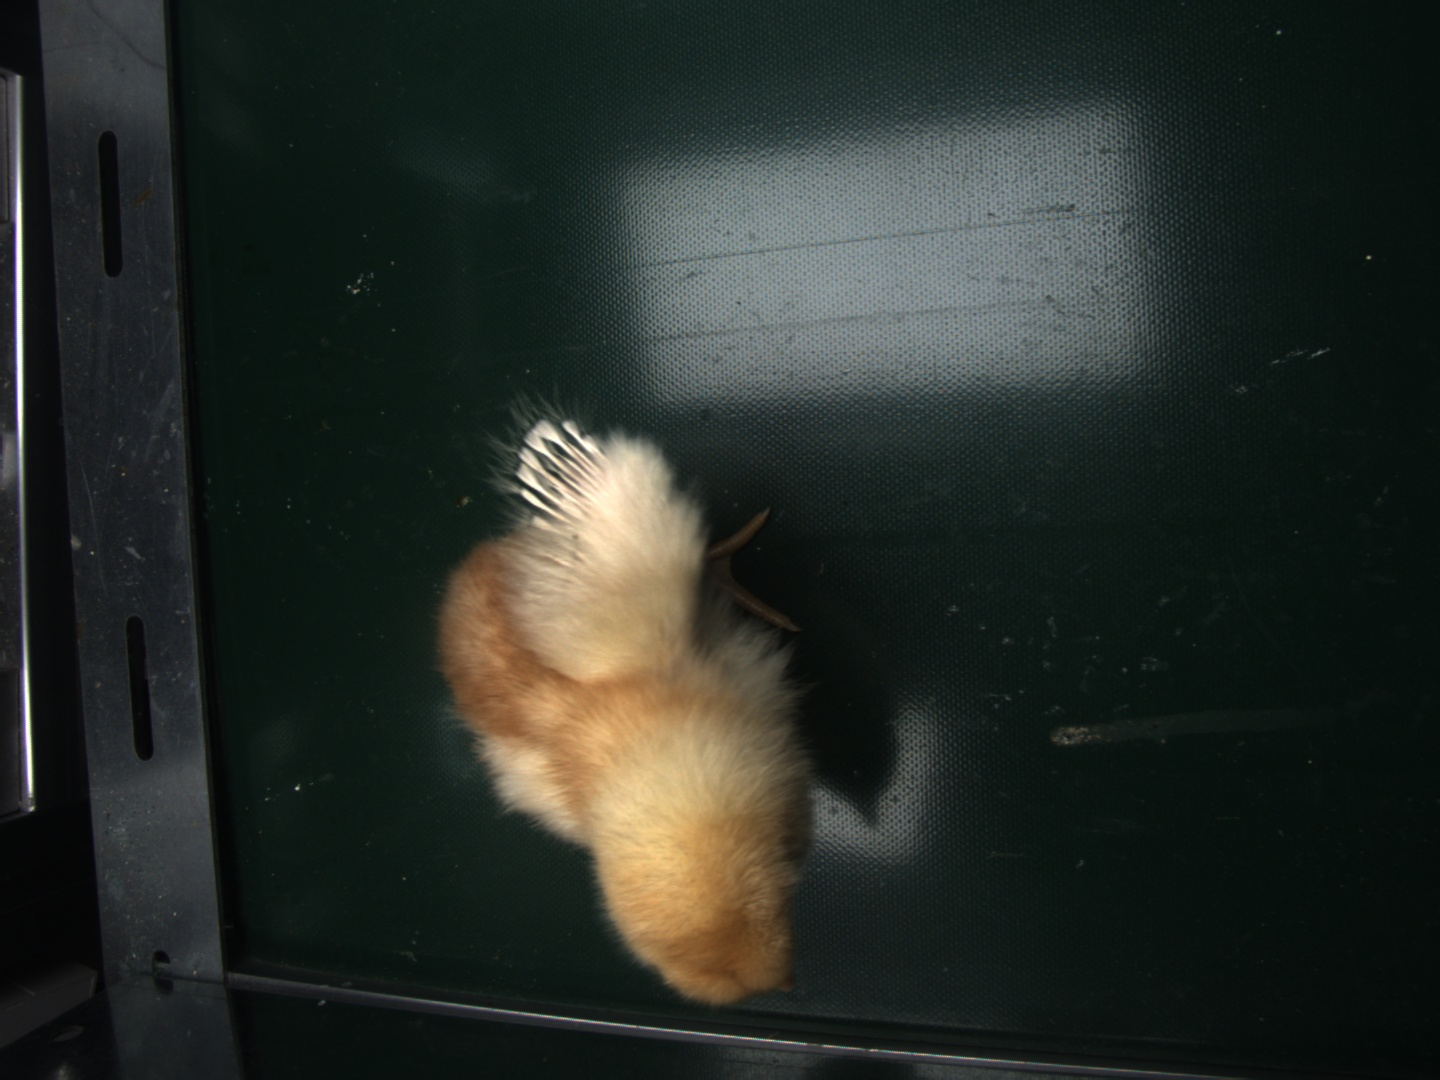female: (517, 419, 605, 528)
